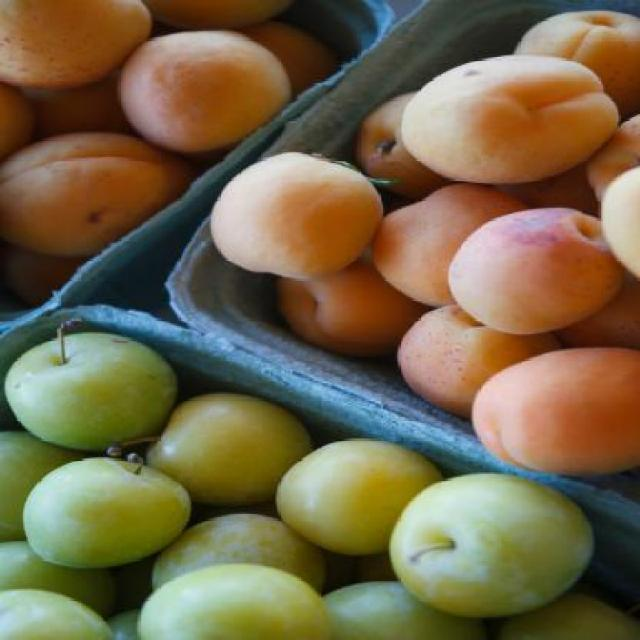Peach: (209, 9, 640, 476), (0, 0, 348, 306)
